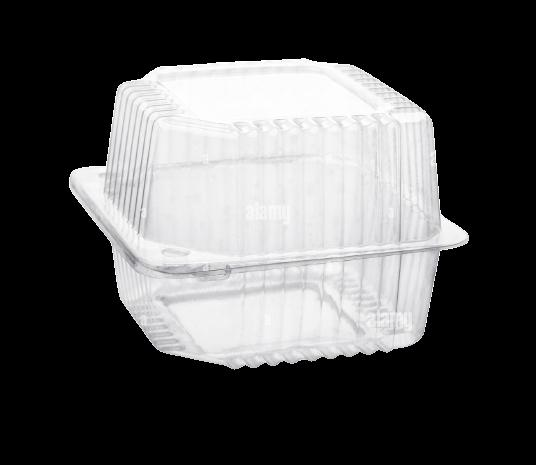Plastik: (67, 54, 464, 376)
